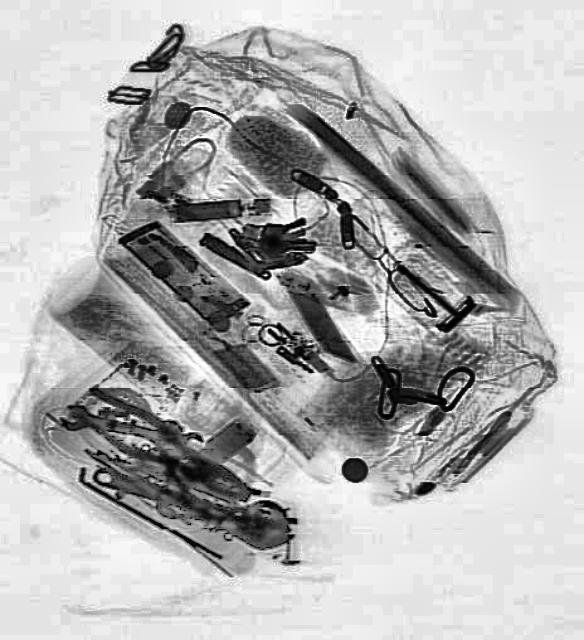Pliers: (66, 378, 260, 516)
Wrench: (85, 448, 301, 558), (56, 396, 180, 452)
